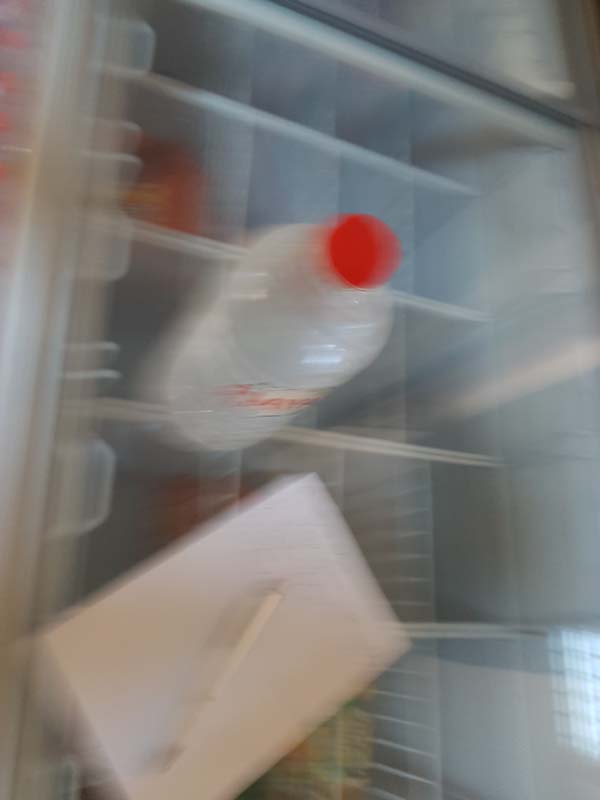saka500mlsu: (169, 207, 399, 468)
